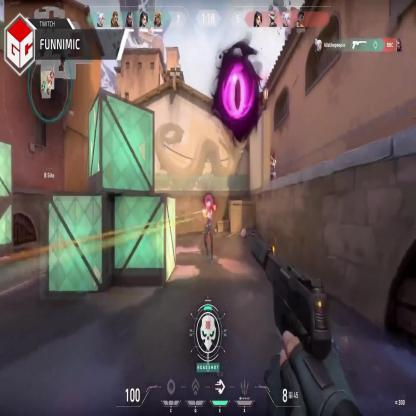enemy: (202, 194, 218, 262), (268, 151, 276, 190)
enemy_head: (206, 199, 210, 210), (270, 152, 274, 160)
